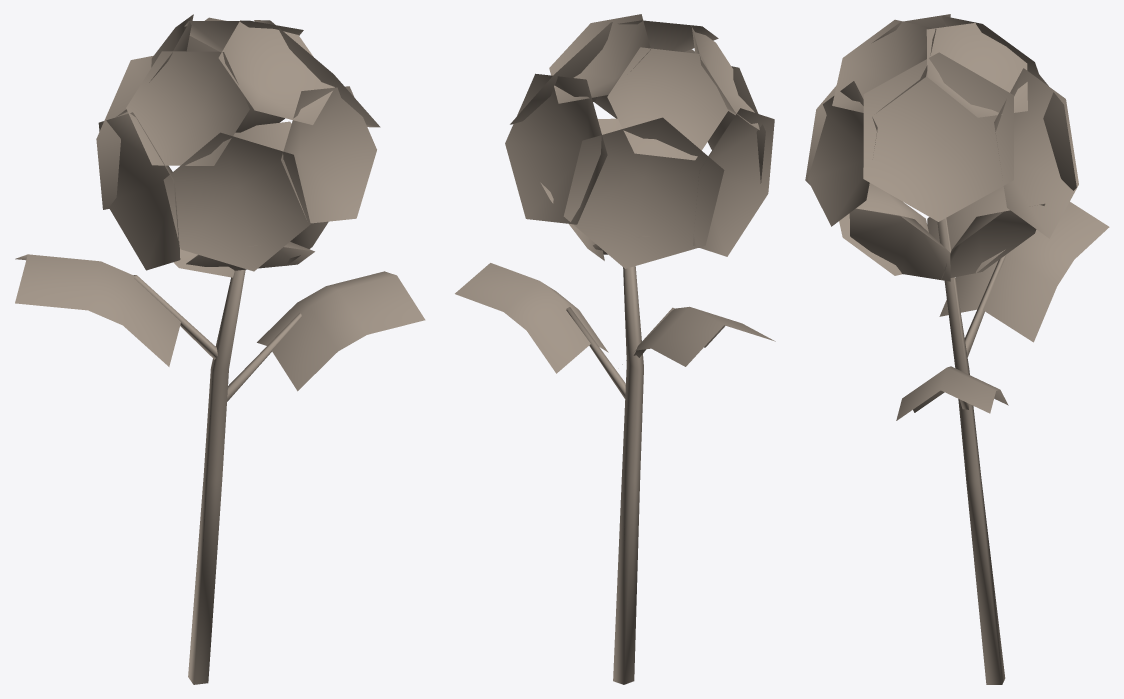
The model's file is Flower_1.glb.
3 views of the same model, side by side, from view 1: azimuth 30°, elevation 25°; view 2: azimuth 150°, elevation 25°; view 3: azimuth 270°, elevation 25° (orthographic). The views are drawn at different scales.
Parts seen in each view (by area): view 1: Flowers; view 2: Flowers; view 3: Flowers.
Boxes of the visible parts, box(x1,y1,x2,y2) form: Flowers: box(15, 14, 425, 684); Flowers: box(455, 14, 775, 684); Flowers: box(805, 14, 1109, 684).
Bounding box in the file's own units: 0.2677 × 0.4894 × 0.2044.
